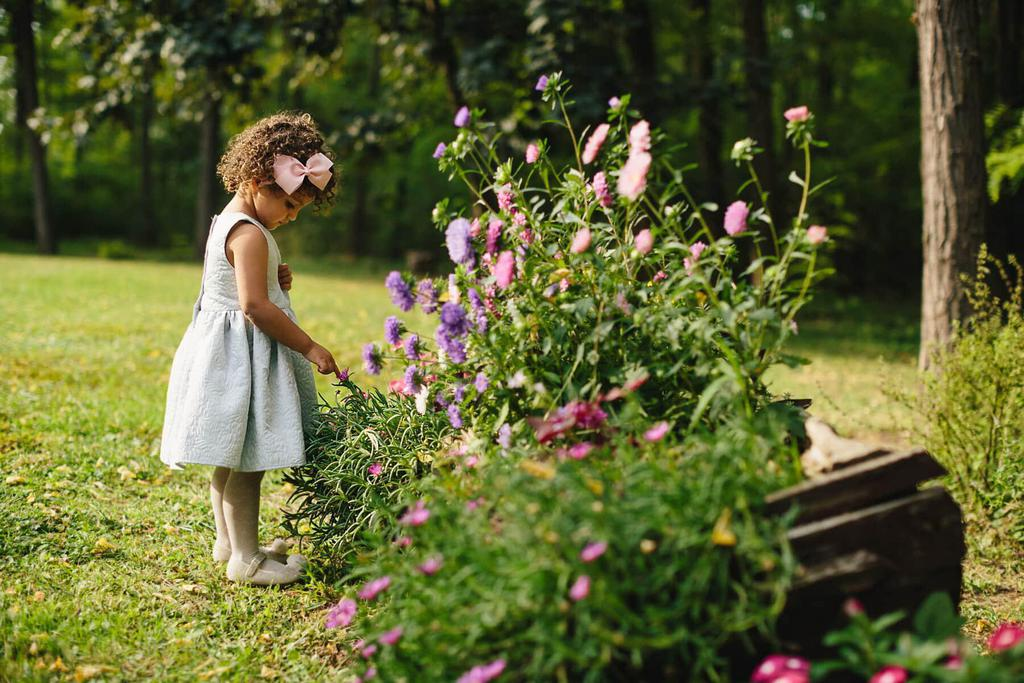child: (147, 109, 373, 602)
